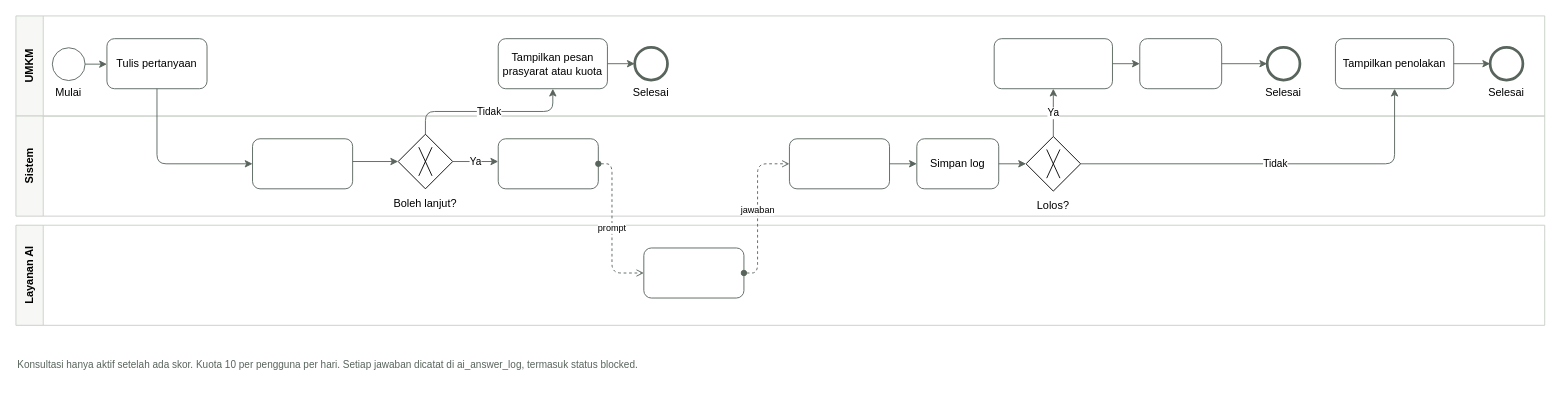
This 1561x405 diagram has some shape labels left out. The centre of each missing label's shape, as x and y in pixels:
"Cek prasyarat dan kuota" belongs at [302,163].
"Hasilkan jawaban" belongs at [693,272].
"Kirim prompt dan konteks" belongs at [547,163].
"Periksa guardrail" belongs at [839,163].
"Tampilkan jawaban, sumber, penafian" belongs at [1052,63].
"Umpan balik" belongs at [1180,63].
